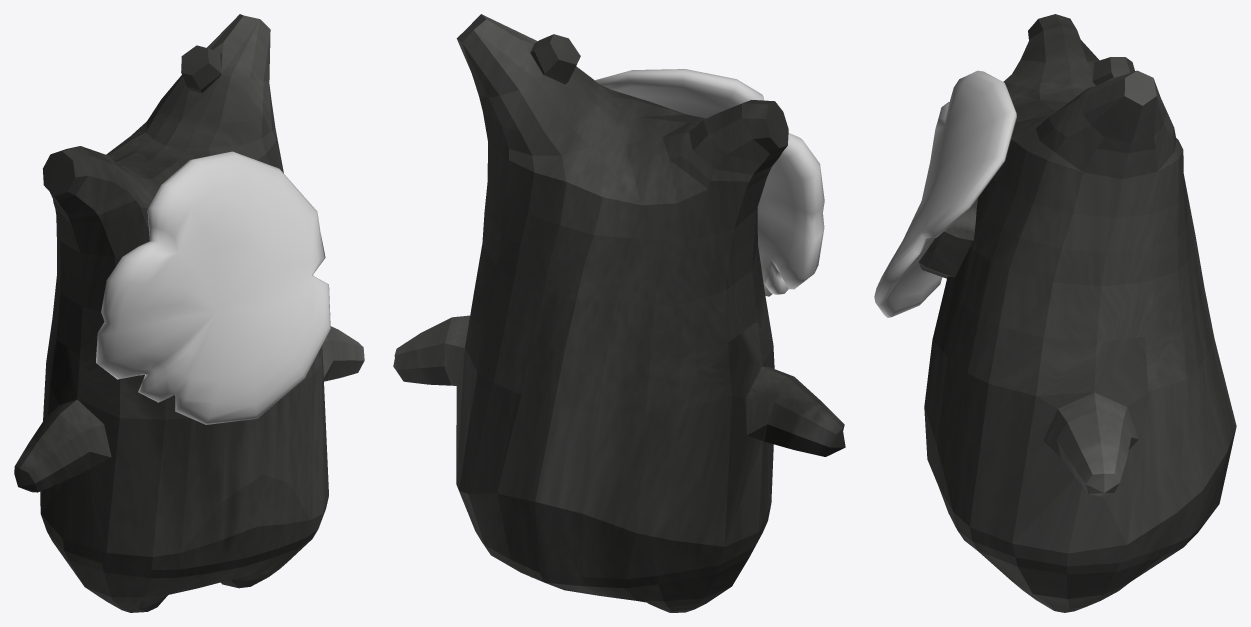
The model's file is frame_0024.obj.
The picture shows the model from 3 angles, left to right: view 1: azimuth 30°, elevation 25°; view 2: azimuth 150°, elevation 25°; view 3: azimuth 270°, elevation 25°; orthographic projection. The views are drawn at different scales.
Parts seen in each view (by area): view 1: korok, leaf; view 2: korok, leaf; view 3: korok, leaf, nose.
Part boxes in pixels (box(x1,y1,x2,y2)): korok: box(14, 14, 364, 612); leaf: box(96, 151, 330, 424); korok: box(393, 14, 845, 612); leaf: box(595, 69, 824, 296); korok: box(924, 14, 1236, 612); leaf: box(874, 70, 1016, 317); nose: box(918, 198, 977, 278).
Bounding box in the file's own units: 1.7 × 2.29 × 1.35.
